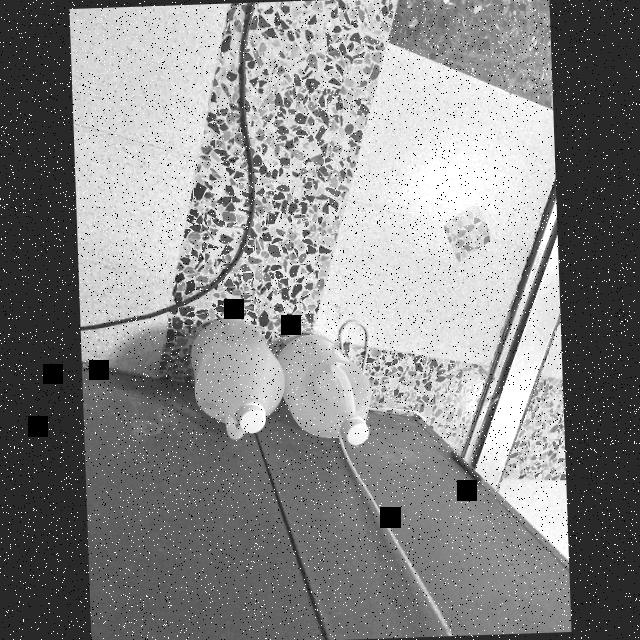chemical_plastic_gallon: (270, 324, 386, 462), (188, 308, 286, 458)
